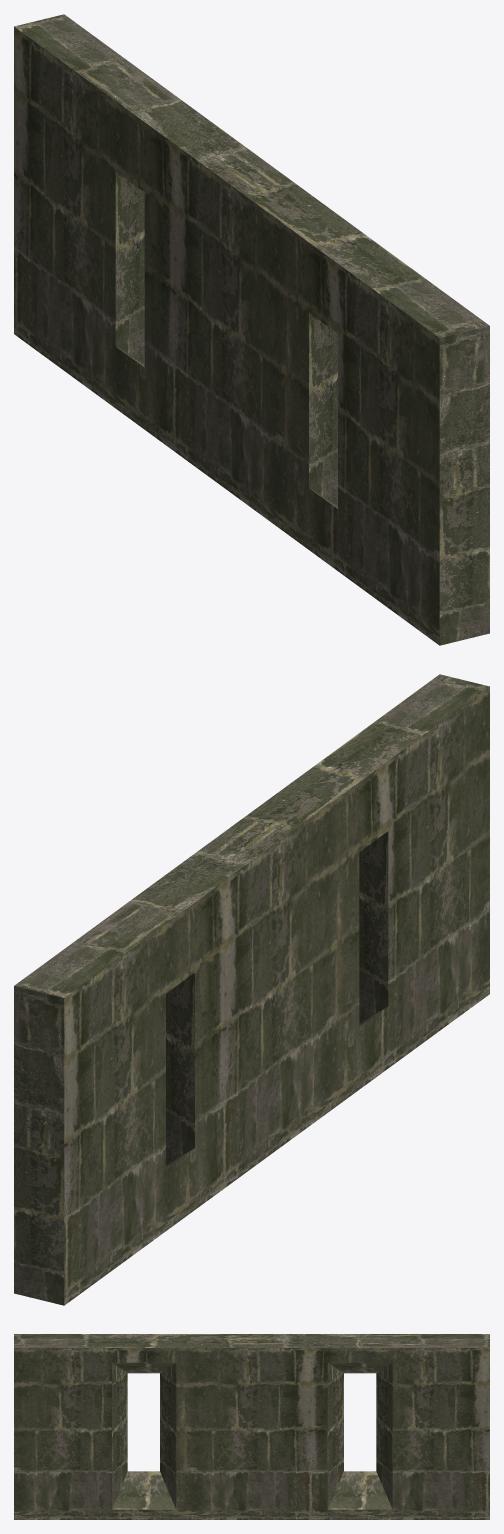
File: HorizontalHalfWall_DualArrowslit.fbx
3 renders of one model, top to bottom at view 1: azimuth 30°, elevation 25°; view 2: azimuth 150°, elevation 25°; view 3: azimuth 270°, elevation 25°, orthographic. The views are drawn at different scales.
Parts seen in each view (by area): view 1: HorizontalHalfWall_DualArrowslit; view 2: HorizontalHalfWall_DualArrowslit; view 3: HorizontalHalfWall_DualArrowslit.
Part boxes in pixels (x1,y1,x2,y2): HorizontalHalfWall_DualArrowslit: (14, 14, 489, 645); HorizontalHalfWall_DualArrowslit: (14, 674, 489, 1305); HorizontalHalfWall_DualArrowslit: (14, 1334, 489, 1519).
Size of the model in its own units: 51 by 298 by 748.
